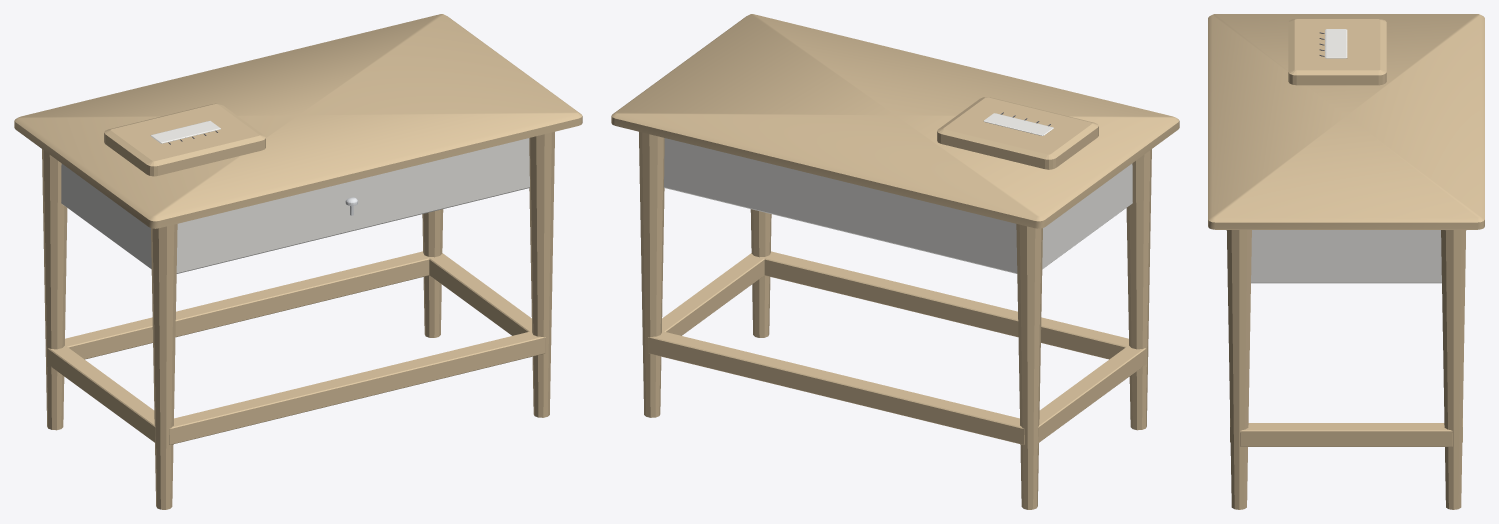
File: clothing-rail-and-wardrobe-accessory-display-table-71db13b4__35470.glb
The picture shows the model from 3 angles, left to right: view 1: azimuth 30°, elevation 25°; view 2: azimuth 150°, elevation 25°; view 3: azimuth 270°, elevation 25°; orthographic projection.
Visible parts, largest first — view 1: accessory-display-table; view 2: accessory-display-table; view 3: accessory-display-table.
Part boxes in pixels (x1,y1,x2,y2): accessory-display-table: (14, 14, 582, 509); accessory-display-table: (611, 14, 1179, 509); accessory-display-table: (1208, 14, 1484, 509).
Size of the model in its own units: 1.1 by 0.7815 by 0.62.
